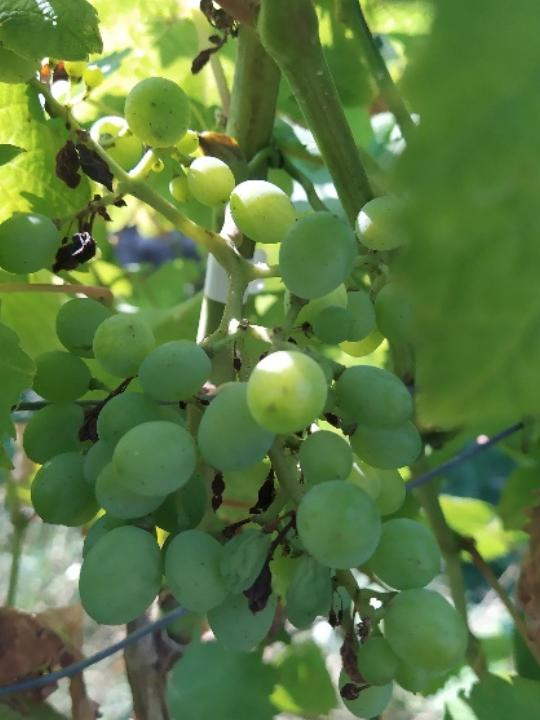grape: (0, 29, 473, 720)
